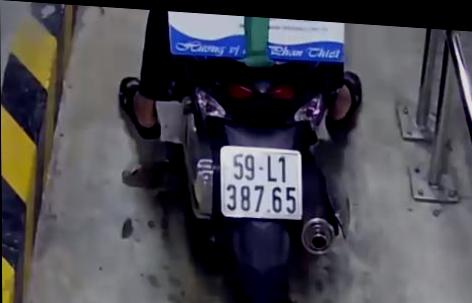License_Plate: (211, 141, 307, 230)
